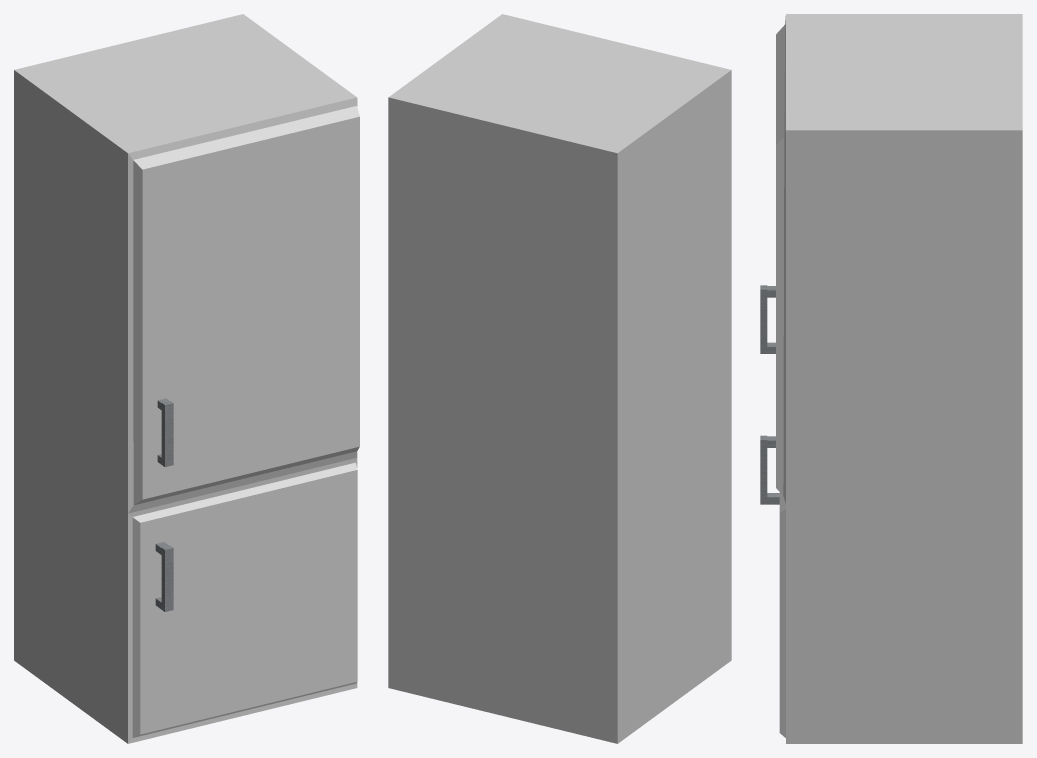
File: fridge.fbx
3 views of the same model, side by side, from view 1: azimuth 30°, elevation 25°; view 2: azimuth 150°, elevation 25°; view 3: azimuth 270°, elevation 25° (orthographic). The views are drawn at different scales.
Visible parts, largest first — view 1: Cube, Cube.003; view 2: Cube; view 3: Cube, Cube.003.
Part boxes in pixels (x1=…): Cube: x1=14, y1=14, x2=359, y2=743; Cube.003: x1=155, y1=398, x2=173, y2=611; Cube: x1=388, y1=14, x2=731, y2=743; Cube: x1=776, y1=14, x2=1022, y2=743; Cube.003: x1=760, y1=285, x2=779, y2=504.
Bounding box in the file's own units: 302 × 744 × 288.
